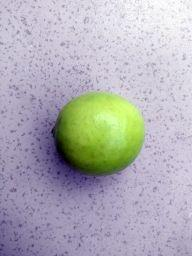lemon: (48, 85, 153, 187)
